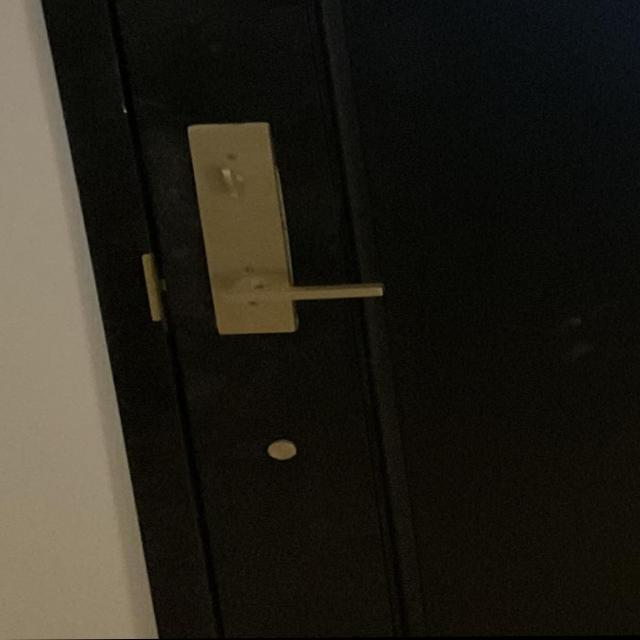door_handle: (196, 260, 399, 320)
